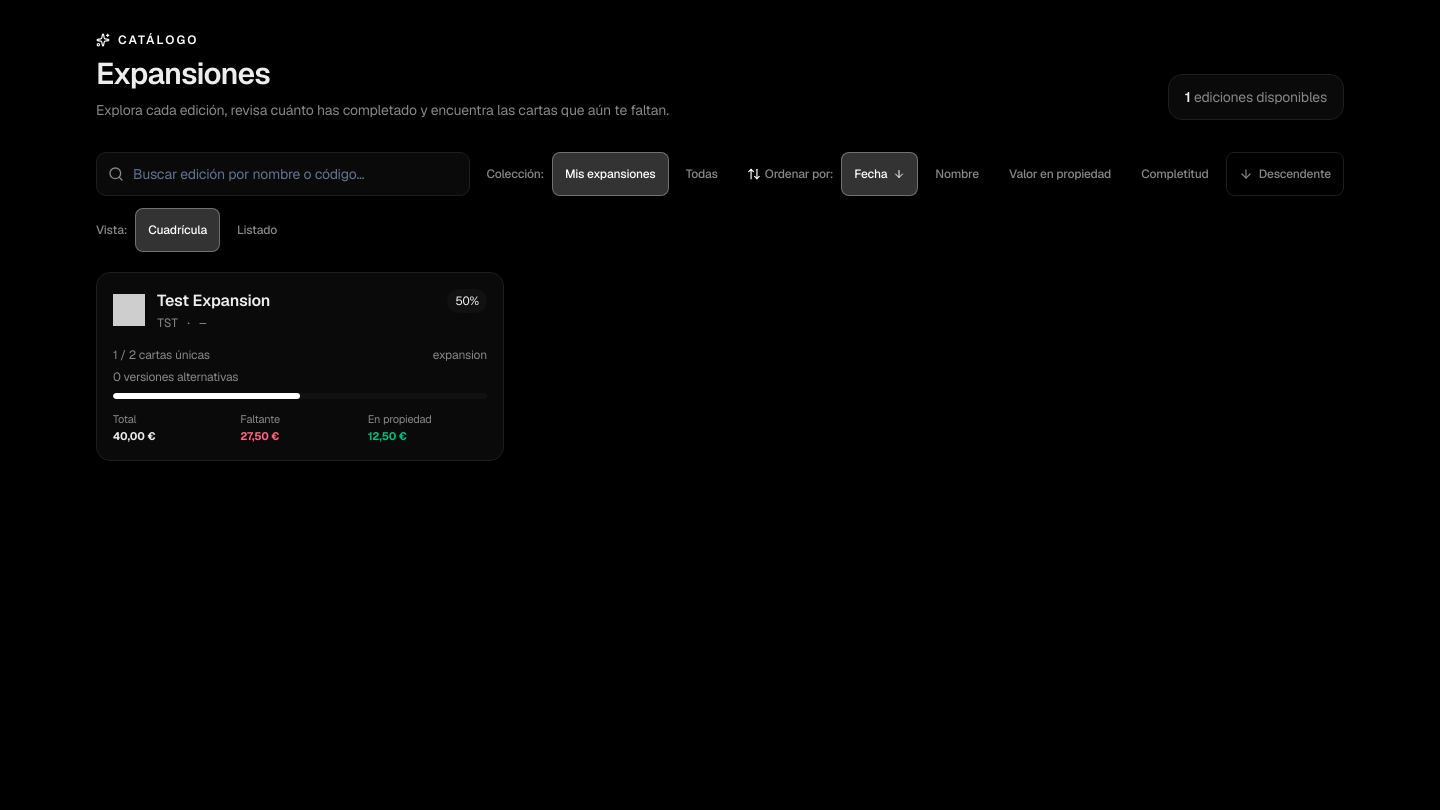
Test: ExpansionsView › applies one acquisition checkpoint to every owned card missing a date in the expansion
Click the button "Test Expansion" at (129, 310), box [96,272,504,461]
(page scrolled)
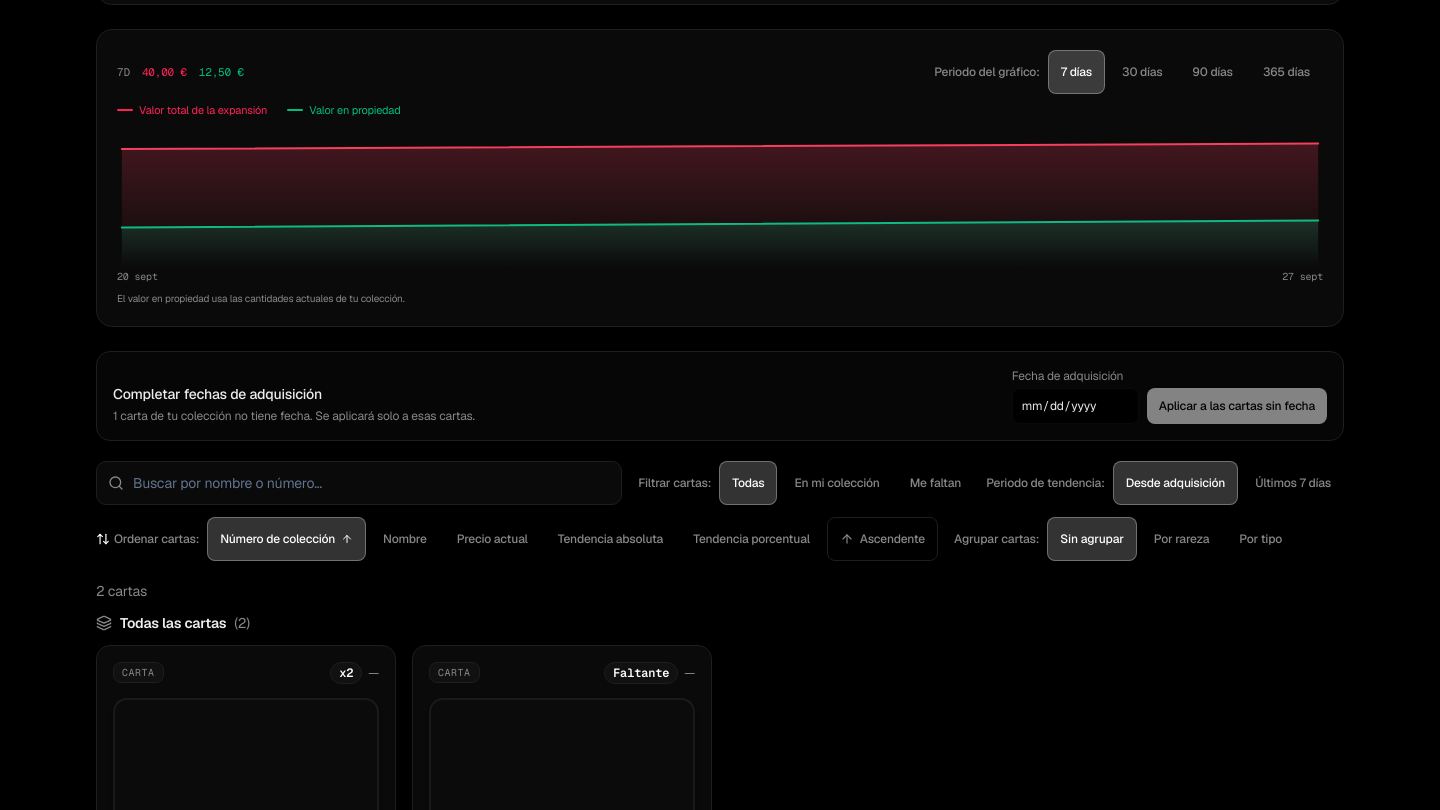
Type "2025-04-03" into the date field named "Fecha de adquisición masiva" at (1075, 406), box [1012,388,1139,424]
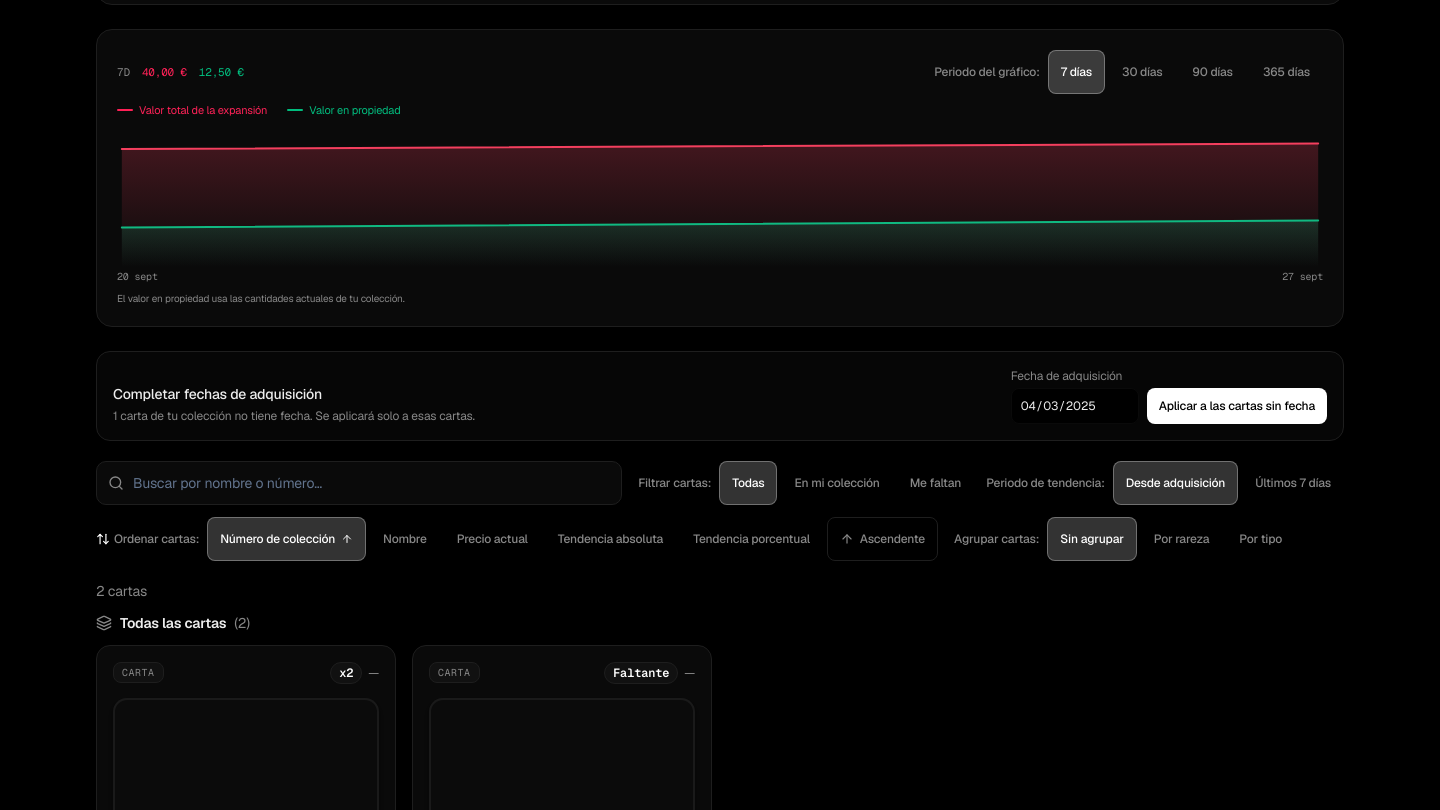
Click the button "Aplicar a las cartas sin fecha" at (1237, 406), box [1147,388,1327,424]
(page scrolled)
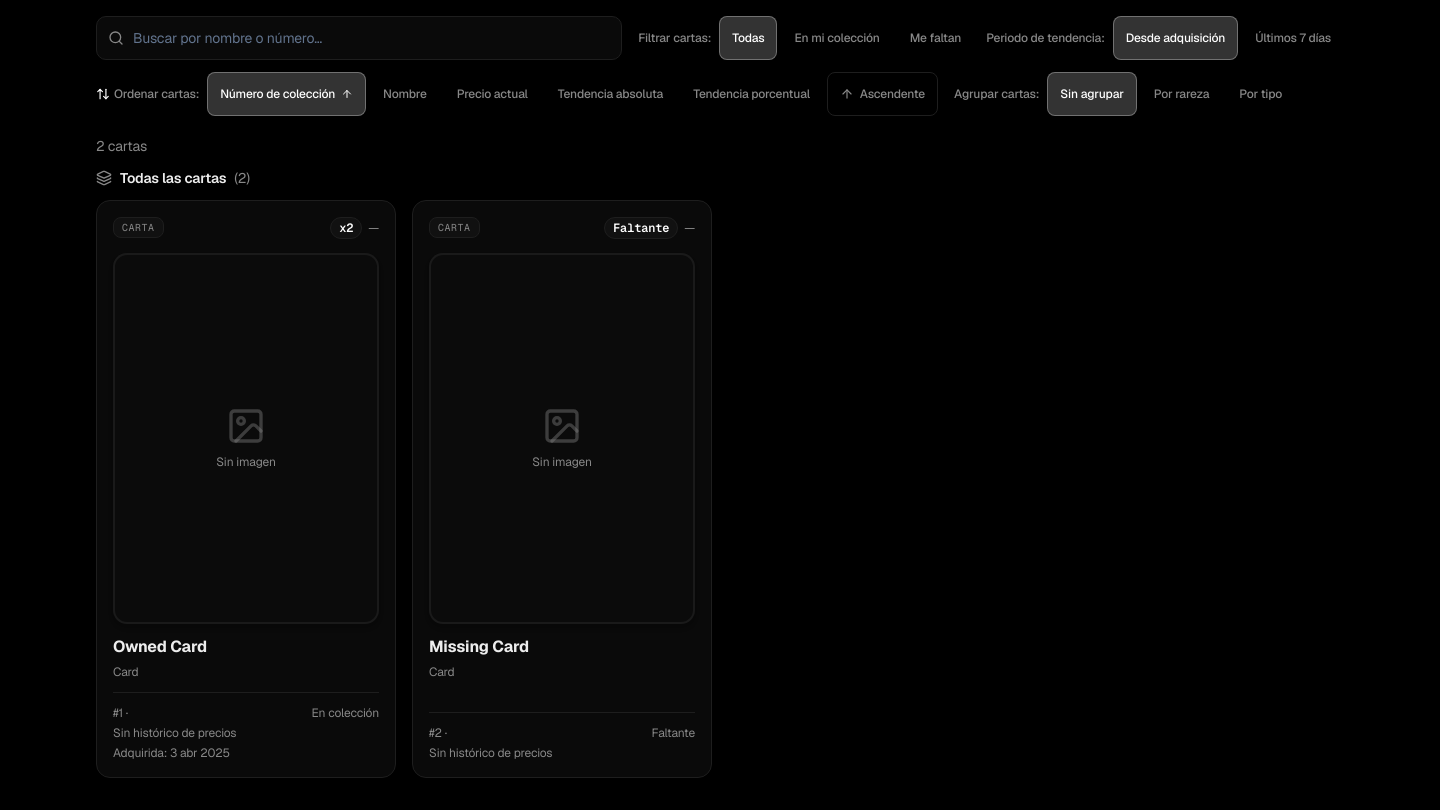
Now the text "Adquirida: 3 abr 2025" is shown, box [113,745,230,761]
